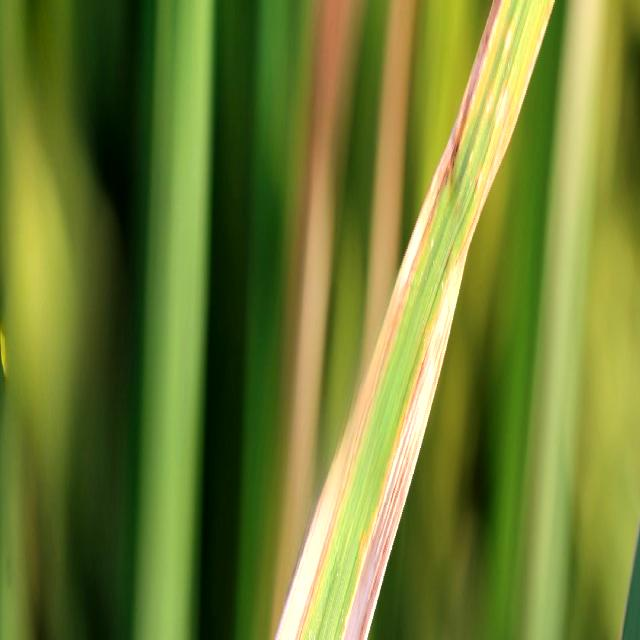BLB: (275, 0, 506, 640), (340, 0, 554, 640)
